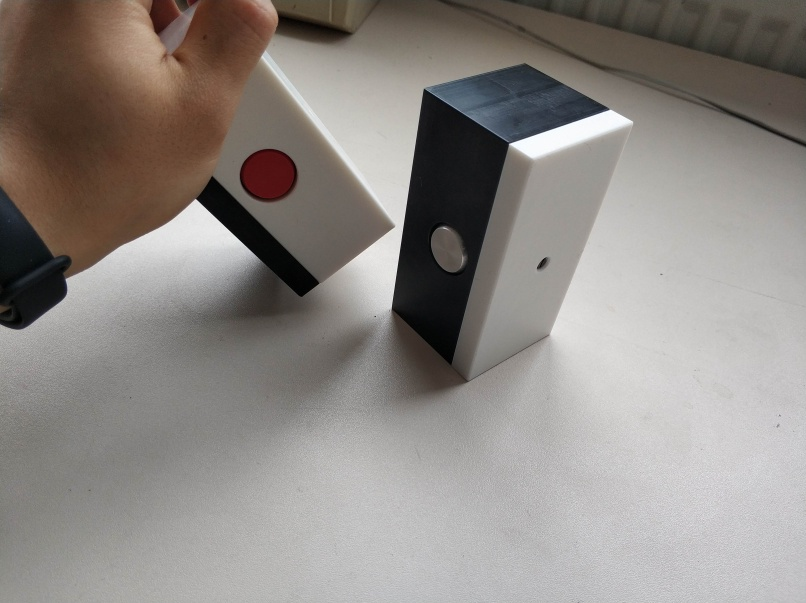black+white+red: (192, 49, 396, 302)
white+black+silver: (387, 62, 637, 385)
